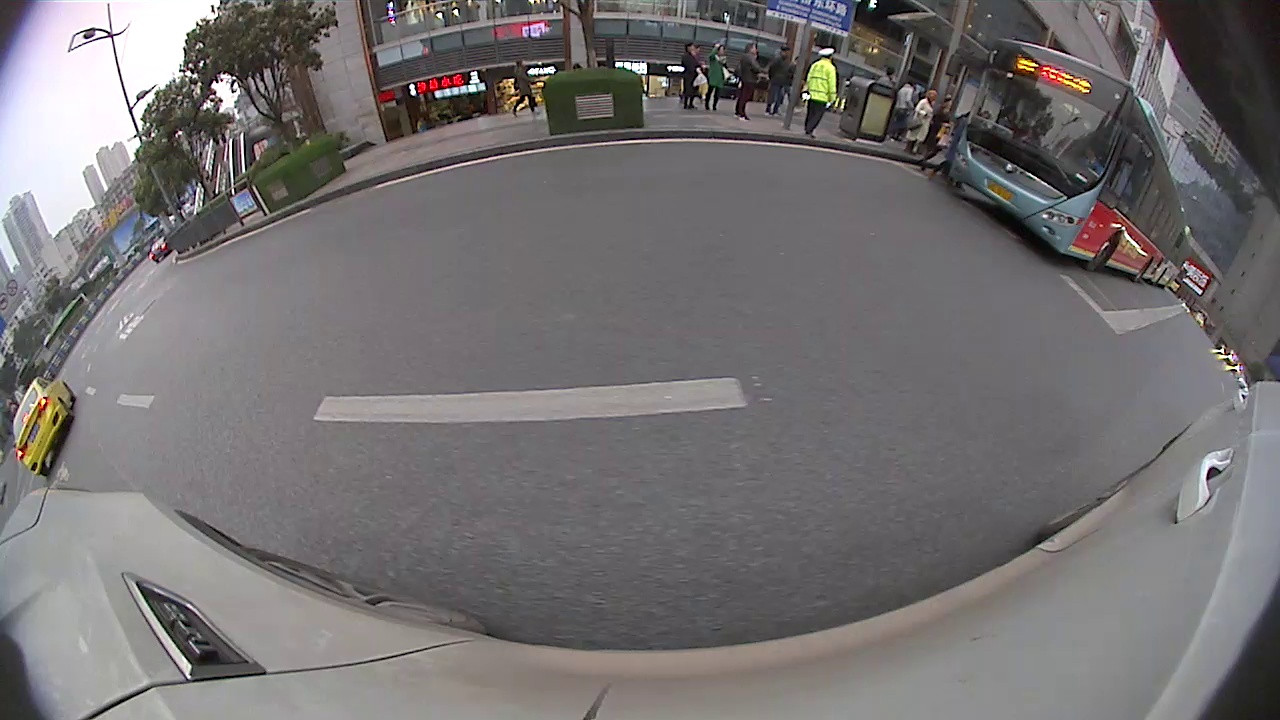bus: (950, 39, 1186, 282), (1148, 226, 1195, 290)
car: (11, 376, 77, 478)
front: (1096, 227, 1125, 271)
person: (812, 47, 832, 141), (739, 42, 759, 119), (709, 39, 727, 112), (681, 40, 699, 112), (919, 87, 935, 154), (775, 46, 790, 114), (512, 57, 528, 117)
